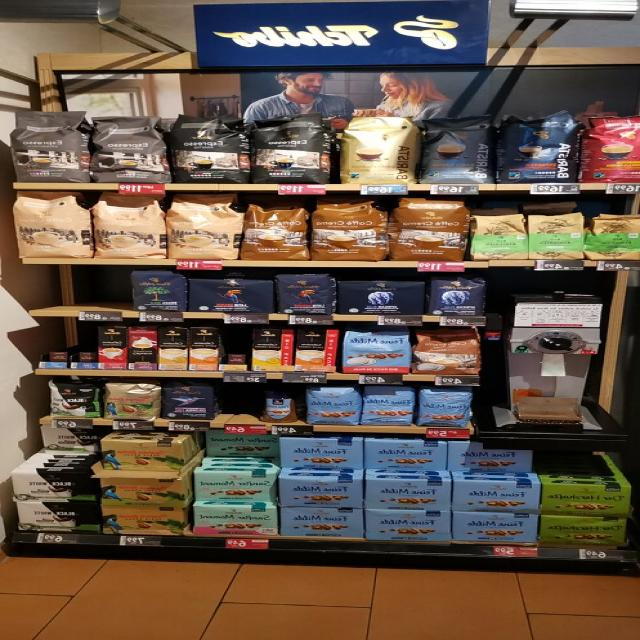AB Bohne: (426, 276, 488, 316)
AB Gemahlen: (332, 280, 427, 315)
Athiopien Bohne: (586, 213, 640, 260)
Athiopien Gemahlen: (468, 212, 530, 262), (528, 212, 586, 260)
BM Bohne: (130, 269, 186, 312)
BW Bohne: (46, 378, 101, 418)
BW Gemahlen: (17, 500, 101, 532), (9, 472, 98, 502)
Barista CB: (334, 114, 420, 184)
Barista CC: (414, 111, 498, 185)
Barista Espresso: (494, 109, 584, 184)
C Fino Bohne: (158, 385, 218, 421)
CC Mild: (11, 190, 91, 259), (166, 192, 246, 260), (90, 193, 168, 260)
CC Vollmundig: (409, 328, 482, 376)
CC Vollmundig 36 Pads: (386, 196, 470, 262), (308, 200, 389, 262), (237, 202, 311, 261)
Colombia BB Bohne: (101, 380, 160, 420)
Colombia BB Gemahlen: (102, 506, 190, 536), (100, 440, 184, 470), (100, 476, 189, 504)
Empty Shelf: (54, 274, 130, 308), (41, 326, 96, 368), (218, 328, 252, 370)
Espresso Aromatisch: (9, 108, 90, 180), (88, 113, 170, 183)
Espresso Kraftig: (166, 111, 247, 186), (252, 111, 332, 186)
FM 36 Pads: (340, 328, 412, 376)
FM Bohne: (414, 386, 474, 428), (358, 386, 414, 426), (304, 386, 359, 426)
FM Gemahlen: (362, 508, 454, 542), (450, 480, 544, 512), (364, 479, 452, 509), (279, 437, 364, 468), (362, 442, 448, 472), (448, 514, 540, 542), (277, 479, 365, 508), (448, 442, 532, 472), (277, 508, 363, 536)
FM Instant: (256, 386, 298, 423)
Herzhatfe Mundig: (540, 484, 632, 516), (540, 516, 628, 544)
LG Bohne: (275, 272, 336, 314)
LG Gemahlen: (187, 278, 276, 313)
SM Gemahlen: (190, 505, 279, 535), (194, 471, 276, 501)
Simo CCMild: (251, 328, 293, 372)
Simo CCVollmundig: (292, 328, 340, 372)
Simo CCVollmundig bigpack: (187, 326, 221, 371)
Simo Decaff: (156, 327, 188, 371)
Simo Es Elegant: (97, 326, 127, 368)
Simo Es Kraft: (127, 326, 159, 370)
